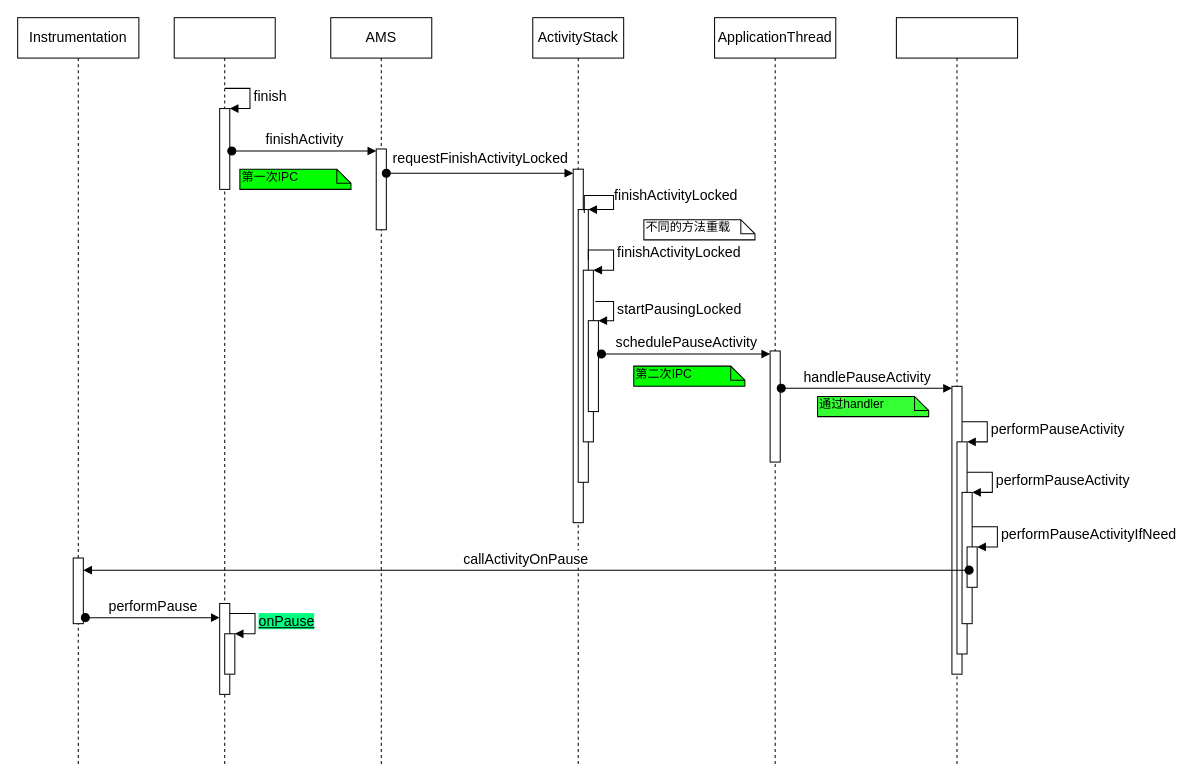
Some shapes in this 1195 by 783 pixel diagram are drawn without their labels. The shapes that lost their labels are listed below. From the top down, each one's box as (x1, y1, x2, y2) in pixels, then its label:
(173, 17, 275, 765): finishing activity
(895, 17, 1018, 765): ActivityThread
